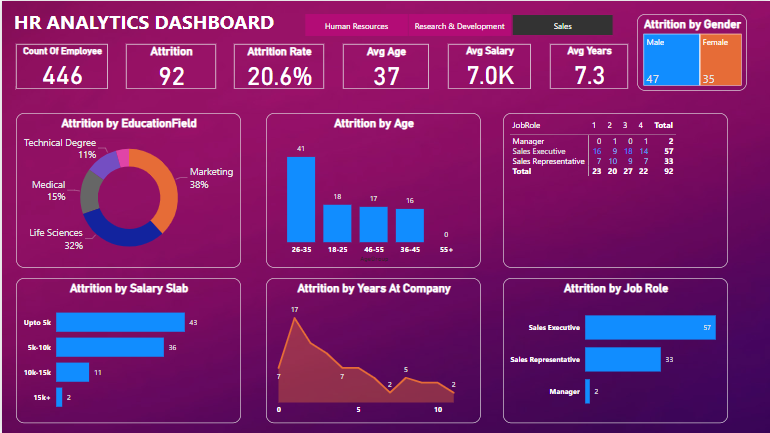

The dashboard page shown, as its layout file describes it:
{"tool":"powerbi","page":{"name":"Page 1","canvas":[1280,720],"ordinal":0},"visuals":[{"type":"card","title":"Count Of Employee","fields":{"Values":["CountNonNull(HR_Analytics.EmpID)"]},"box":[23.3,71.7,153.3,75],"z":0},{"type":"card","title":"Attrition","fields":{"Values":["Sum(HR_Analytics.AttritionCount)"]},"box":[206.7,71.7,150,75],"z":1000},{"type":"card","title":"Attrition Rate","fields":{"Values":["HR_Analytics.AttritionRate"]},"box":[386.7,71.7,150,75],"z":2000},{"type":"card","title":"Avg Age","fields":{"Values":["Avg(HR_Analytics.Age)"]},"box":[568.3,71.7,143.3,75],"z":3000},{"type":"card","title":"Avg Salary","fields":{"Values":["Avg(HR_Analytics.MonthlyIncome)"]},"box":[743.3,71.7,138.3,75],"z":4000},{"type":"card","title":"Avg Years","fields":{"Values":["Avg(HR_Analytics.YearsAtCompany)"]},"box":[913.3,71.7,130,75],"z":5000},{"type":"donutChart","title":"Attrition by EducationField","fields":{"Category":["HR_Analytics.EducationField"],"Y":["Sum(HR_Analytics.AttritionCount)"]},"box":[23.3,186.7,375,258.3],"z":6000},{"type":"columnChart","title":"Attrition by Age","fields":{"Category":["HR_Analytics.AgeGroup"],"Y":["Sum(HR_Analytics.AttritionCount)"]},"box":[440,186.7,358.3,258.3],"z":7000},{"type":"pivotTable","fields":{"Rows":["HR_Analytics.JobRole"],"Columns":["HR_Analytics.JobSatisfaction"],"Values":["Sum(HR_Analytics.AttritionCount)"]},"box":[835,186.7,375,258.3],"z":8000},{"type":"barChart","title":"Attrition by Salary Slab","fields":{"Category":["HR_Analytics.SalarySlab"],"Y":["Sum(HR_Analytics.AttritionCount)"]},"box":[23.3,461.7,375,241.7],"z":9000},{"type":"barChart","title":"Attrition by Job Role","fields":{"Y":["Sum(HR_Analytics.AttritionCount)"],"Category":["HR_Analytics.JobRole"]},"box":[835,461.7,375,241.7],"z":10000},{"type":"areaChart","title":"Attrition by Years At Company","fields":{"Category":["HR_Analytics.YearsAtCompany"],"Y":["Sum(HR_Analytics.AttritionCount)"]},"box":[440,461.7,358.3,241.7],"z":11000},{"type":"treemap","title":"Attrition by Gender","fields":{"Group":["HR_Analytics.Gender"],"Values":["Sum(HR_Analytics.AttritionCount)"]},"box":[1058.3,21.7,183.3,128.3],"z":12000},{"type":"textbox","box":[15,6.7,468.3,58.3],"z":14000},{"type":"slicer","fields":{"Values":["HR_Analytics.Department"]},"box":[480,15,563.3,50],"z":14001}]}

Visuals, with their boxes in screenshot pixels (x1, y1, x2, y2), scaled from the page's 1280x720 canvas onto the 770x433 screenshot:
"Count Of Employee" card: {"left": 14, "top": 43, "right": 106, "bottom": 88}
"Attrition" card: {"left": 124, "top": 43, "right": 215, "bottom": 88}
"Attrition Rate" card: {"left": 233, "top": 43, "right": 323, "bottom": 88}
"Avg Age" card: {"left": 342, "top": 43, "right": 428, "bottom": 88}
"Avg Salary" card: {"left": 447, "top": 43, "right": 530, "bottom": 88}
"Avg Years" card: {"left": 549, "top": 43, "right": 628, "bottom": 88}
"Attrition by EducationField" donutChart: {"left": 14, "top": 112, "right": 240, "bottom": 268}
"Attrition by Age" columnChart: {"left": 265, "top": 112, "right": 480, "bottom": 268}
pivotTable - HR_Analytics.JobRole x HR_Analytics.JobSatisfaction: {"left": 502, "top": 112, "right": 728, "bottom": 268}
"Attrition by Salary Slab" barChart: {"left": 14, "top": 278, "right": 240, "bottom": 423}
"Attrition by Job Role" barChart: {"left": 502, "top": 278, "right": 728, "bottom": 423}
"Attrition by Years At Company" areaChart: {"left": 265, "top": 278, "right": 480, "bottom": 423}
"Attrition by Gender" treemap: {"left": 637, "top": 13, "right": 747, "bottom": 90}
textbox: {"left": 9, "top": 4, "right": 291, "bottom": 39}
slicer - HR_Analytics.Department: {"left": 289, "top": 9, "right": 628, "bottom": 39}
